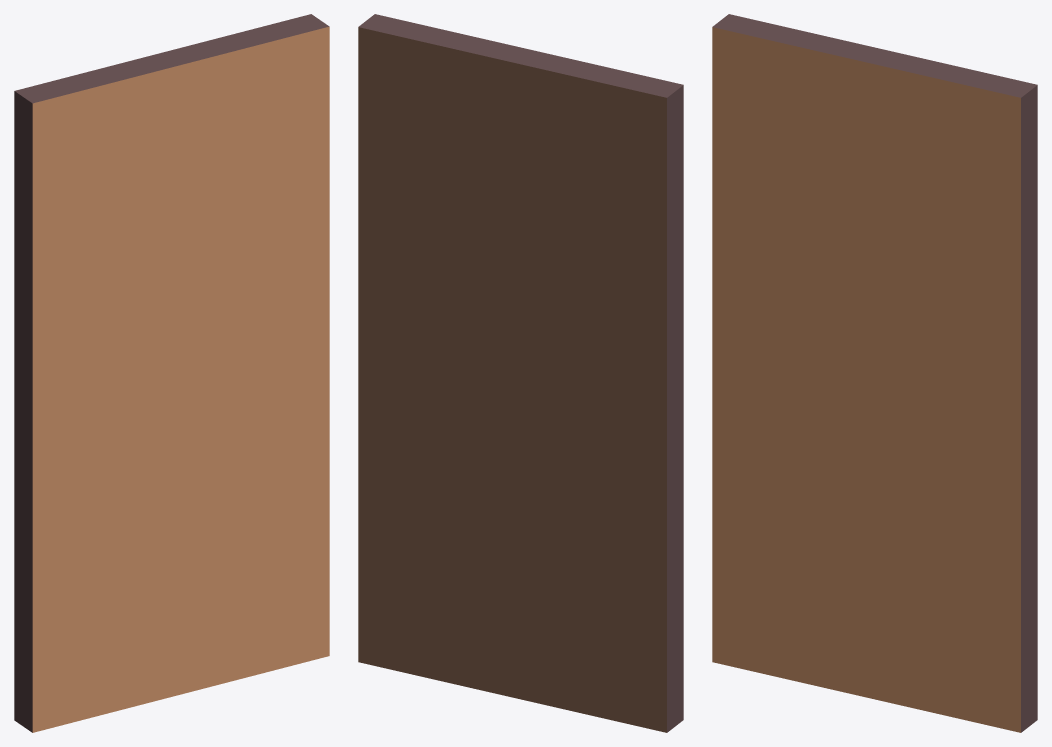
The model's file is Dummy_door.FBX.
3 views of the same model, side by side, from view 1: azimuth 30°, elevation 25°; view 2: azimuth 150°, elevation 25°; view 3: azimuth 330°, elevation 25° (orthographic).
Parts seen in each view (by area): view 1: Dummy_door; view 2: Dummy_door; view 3: Dummy_door.
Boxes of the visible parts, bbox=[...] form: Dummy_door: bbox=[14, 14, 329, 732]; Dummy_door: bbox=[358, 14, 683, 732]; Dummy_door: bbox=[712, 14, 1037, 732].
Size of the model in its own units: 60.14 by 120 by 7.58.
